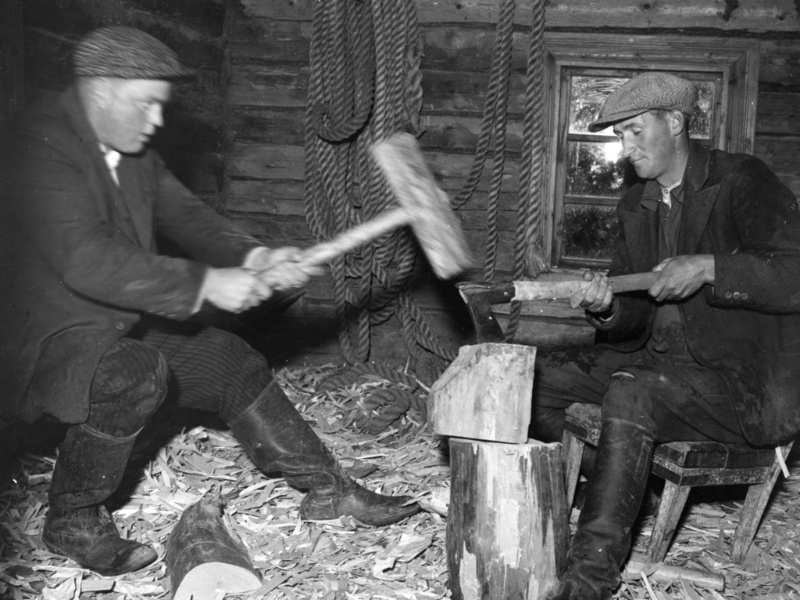axe: (446, 272, 597, 357)
